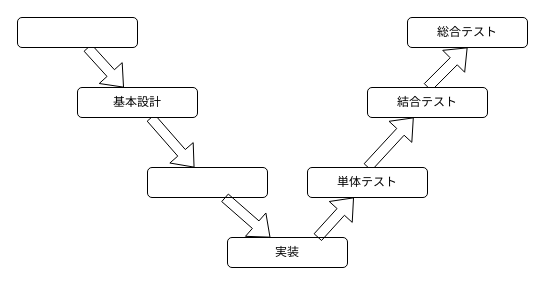
This 545x285 diagram has some shape labels left out. Here are the shapes that lost their labels. From the top down, the box of each, then its label:
(16, 16, 138, 48): 要求分析
(146, 166, 268, 198): 詳細設計
